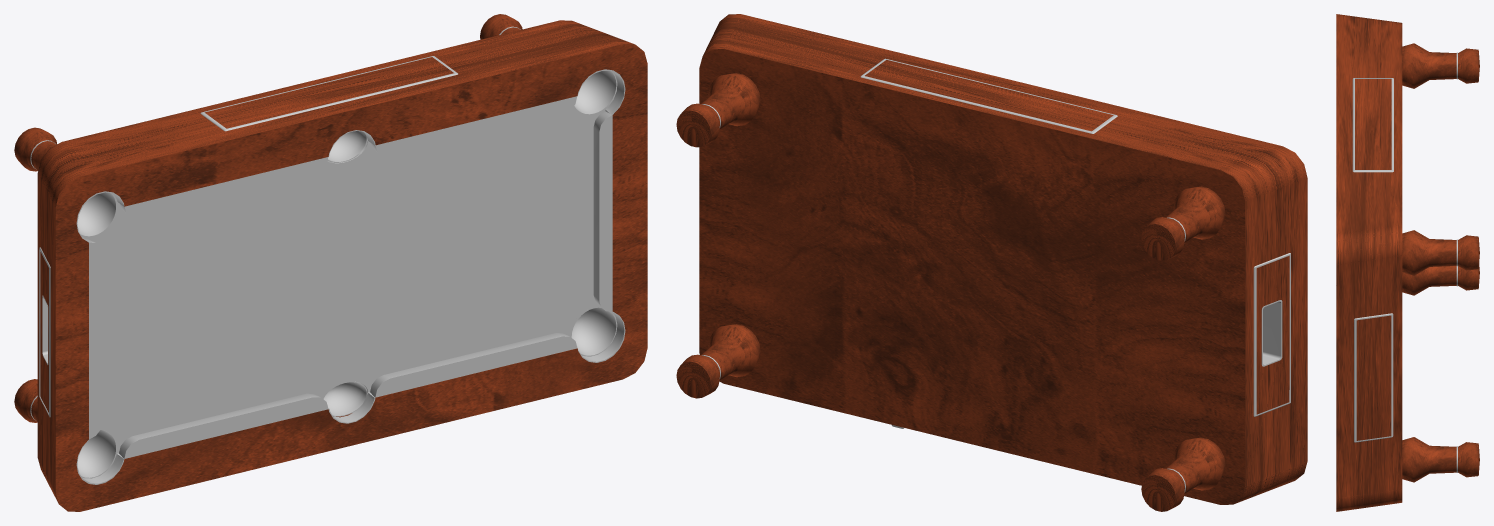
3 renders of one model, left to right at view 1: azimuth 30°, elevation 25°; view 2: azimuth 150°, elevation 25°; view 3: azimuth 270°, elevation 25°, orthographic. The views are drawn at different scales.
Visible parts, largest first — view 1: Box001, ChamferBox, ChamferBo3, ChamferBo2, ChamferBo1, ChamferBo4, ChamferBo5, ChamferBo0, Sphere007, Sphere010, Sphere008, Sphere009 (+6 smaller); view 2: ChamferBox, Cylinder04, Cylinder05, Cylinder07, Cylinder06, ChamferB14, ChamferBo7, ChamferBo9; view 3: ChamferBox, Cylinder05, Cylinder06, Cylinder07, Cylinder04, ChamferBo8, ChamferBo7.
Boxes of the visible parts, box(x1,y1,x2,y2) form: Box001: box(83, 108, 605, 453); ChamferBox: box(37, 20, 647, 511); ChamferBo3: box(119, 393, 328, 458); ChamferBo2: box(370, 333, 577, 397); ChamferBo1: box(593, 111, 612, 311); ChamferBo4: box(120, 157, 328, 218); ChamferBo5: box(371, 96, 577, 156); ChamferBo0: box(85, 239, 102, 439); Sphere007: box(570, 305, 617, 356); Sphere010: box(77, 428, 117, 478); Sphere008: box(573, 71, 617, 116); Sphere009: box(77, 192, 117, 238); ChamferBox: box(699, 14, 1307, 504); Cylinder04: box(1141, 437, 1225, 511); Cylinder05: box(1141, 186, 1225, 260); Cylinder07: box(676, 324, 760, 398); Cylinder06: box(676, 73, 760, 147); ChamferB14: box(1261, 300, 1282, 366); ChamferBo7: box(860, 58, 1117, 133); ChamferBo9: box(1253, 253, 1290, 416); ChamferBox: box(1336, 14, 1402, 511); Cylinder05: box(1402, 43, 1479, 88); Cylinder06: box(1402, 230, 1479, 275); Cylinder07: box(1402, 437, 1479, 482); Cylinder04: box(1402, 264, 1479, 295); ChamferBo8: box(1354, 313, 1393, 442); ChamferBo7: box(1352, 78, 1393, 172).
Bounding box in the file's own units: 111 × 62.79 × 28.29.
